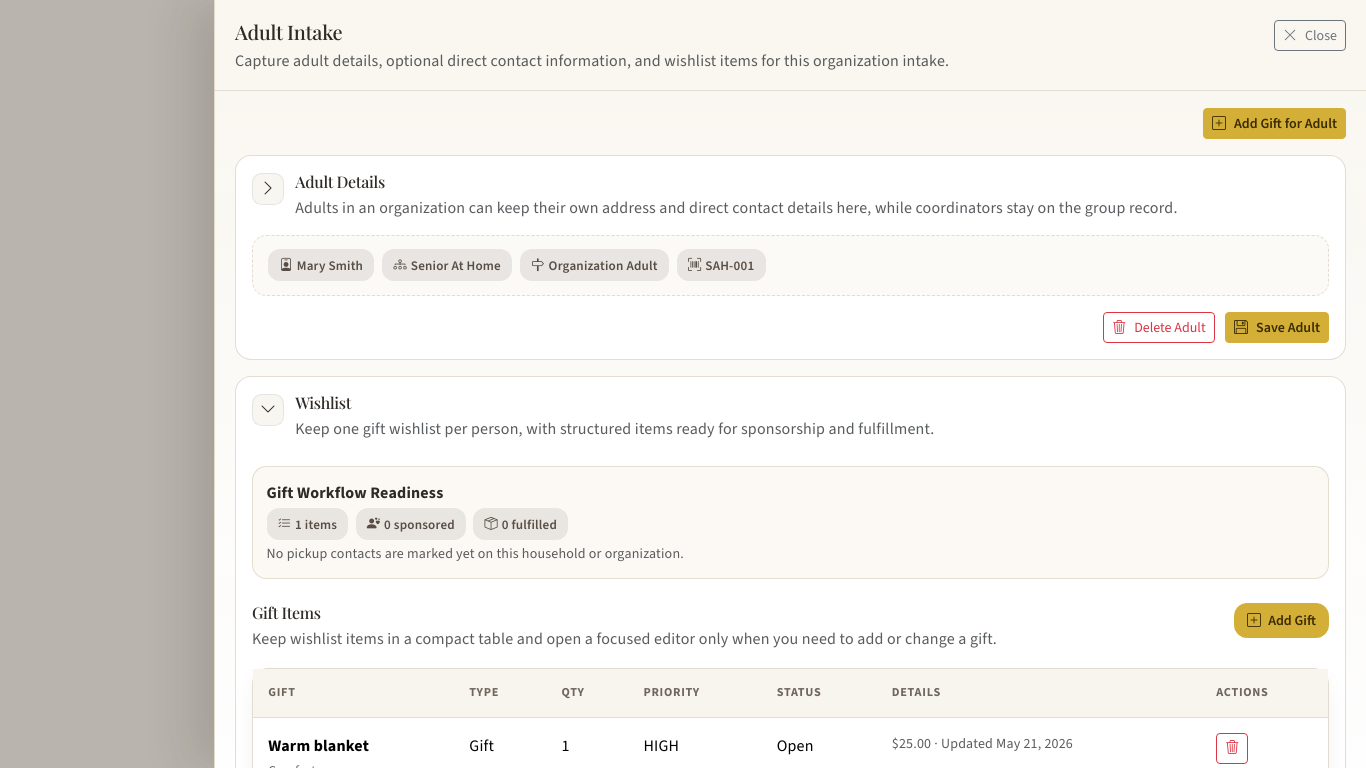
Test: CampaignPeopleRecipientDrawer › shows a direct delete action for wishlist gifts in the adult drawer table
The width and height of the screenshot is (1366, 768).
Click the 9th button: click(1232, 748) 1216,733 -> 1248,764
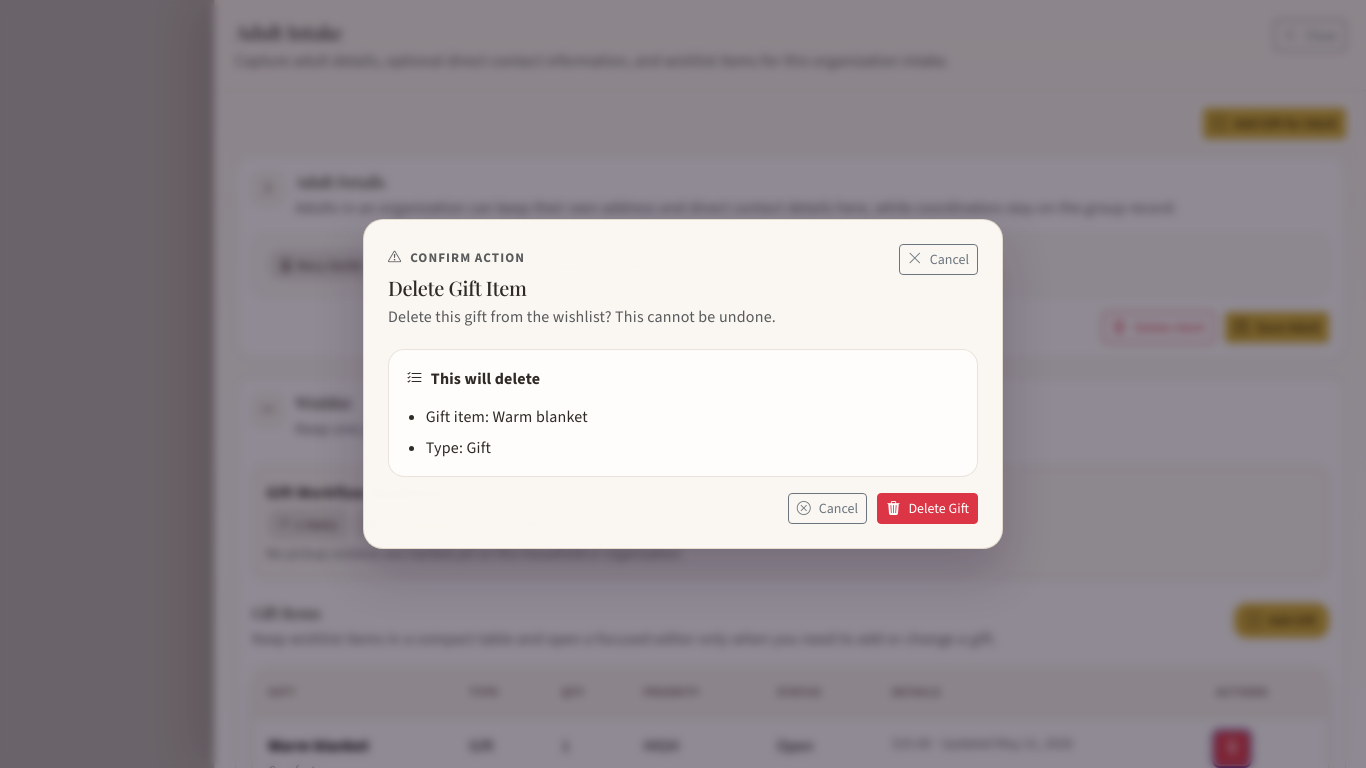
Check: the heading "Delete Gift Item" is shown, box 388,274 -> 526,300
Check: the list item "Gift item: Warm blanket" is shown, box 426,406 -> 588,427
